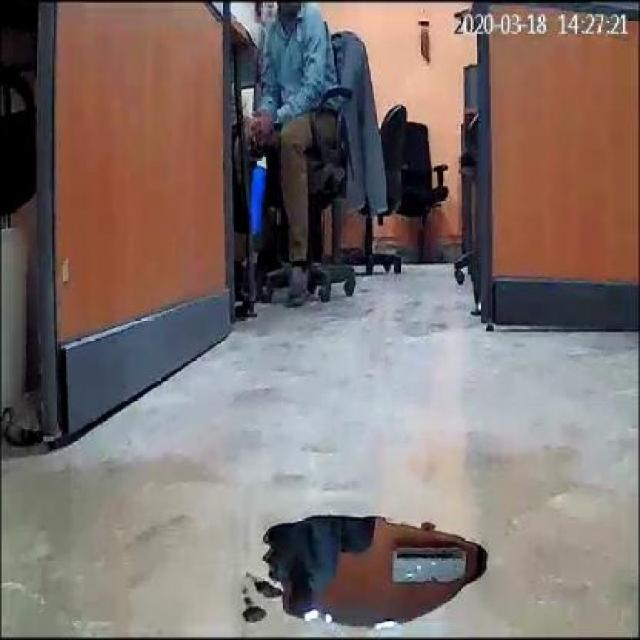spill: (256, 512, 490, 626)
